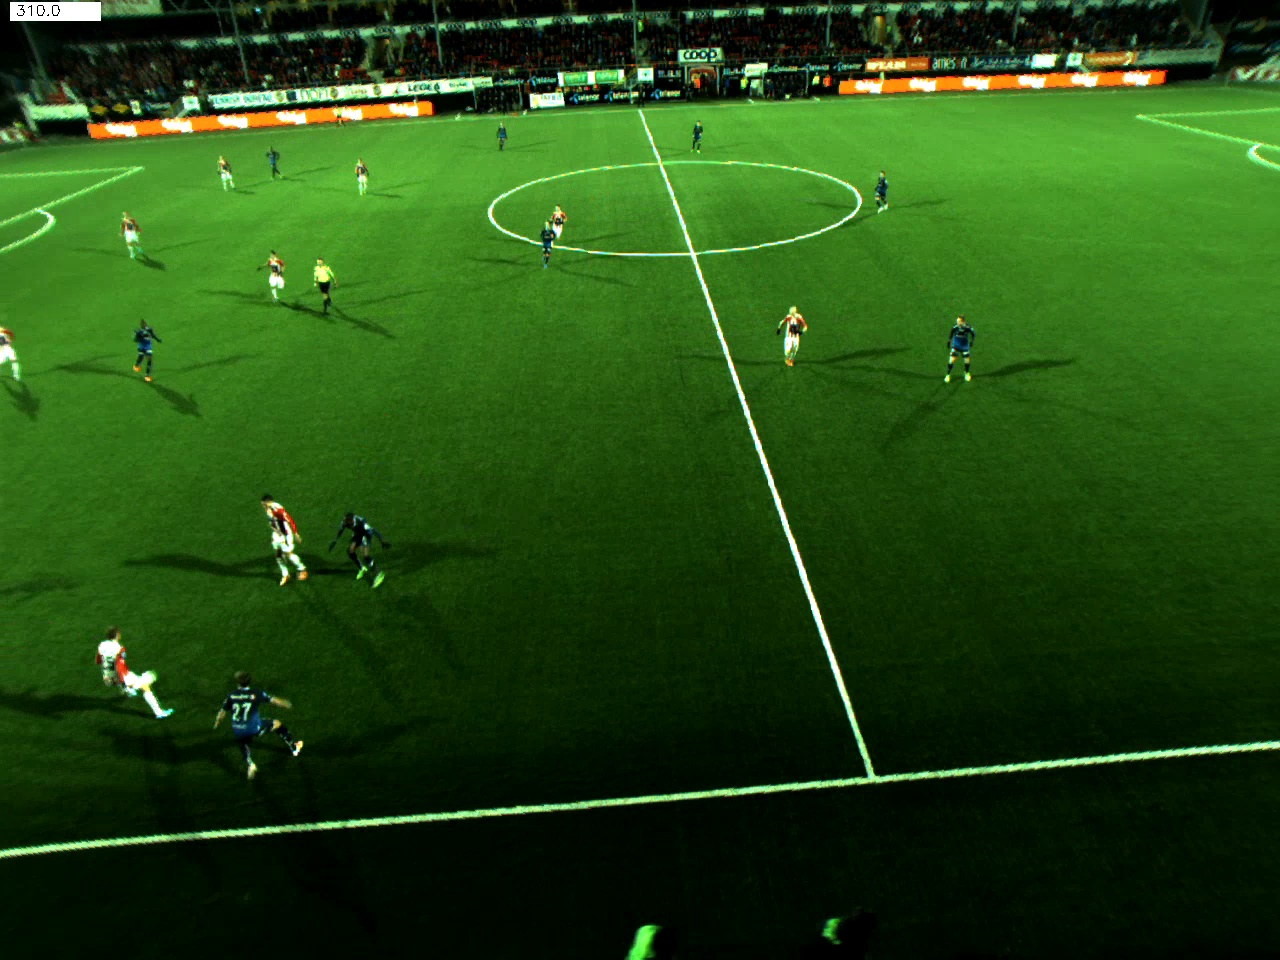blue: (209, 666, 313, 796), (331, 506, 403, 603), (128, 306, 169, 391), (944, 312, 987, 385), (534, 220, 562, 269), (869, 169, 894, 212), (259, 145, 287, 182), (489, 120, 513, 155), (689, 112, 705, 163)
red: (96, 627, 180, 724), (262, 487, 314, 595), (109, 206, 153, 267), (1, 328, 30, 405), (780, 303, 805, 377), (206, 149, 234, 200), (549, 198, 574, 246), (259, 253, 281, 302), (353, 156, 378, 196)
yellow: (305, 253, 341, 325)
